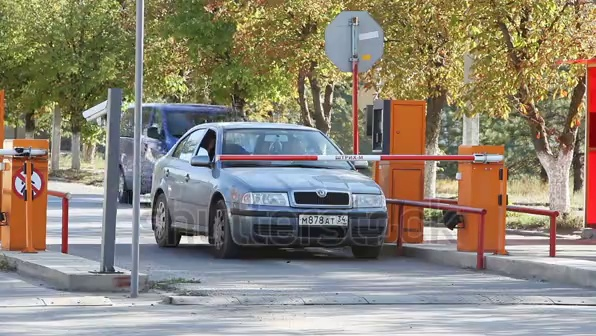licenseplate: (299, 206, 356, 233)
